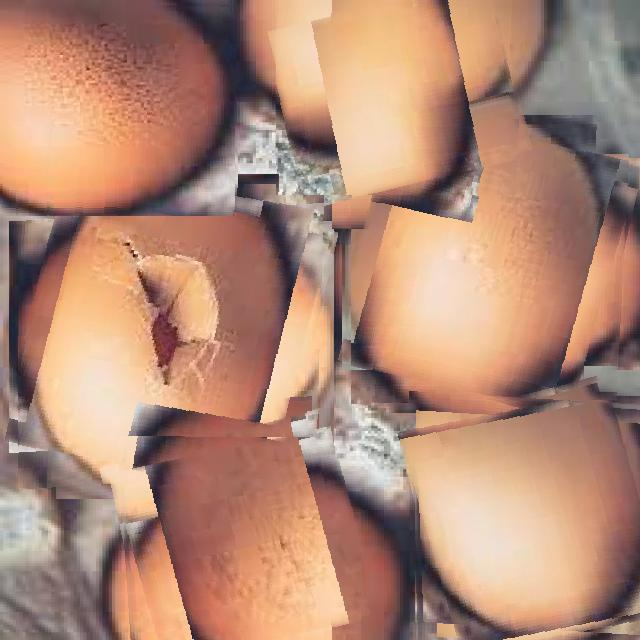biodegradable: (18, 184, 325, 490), (351, 124, 631, 404), (409, 391, 640, 640), (0, 0, 236, 216), (117, 436, 361, 640), (276, 0, 524, 195)
